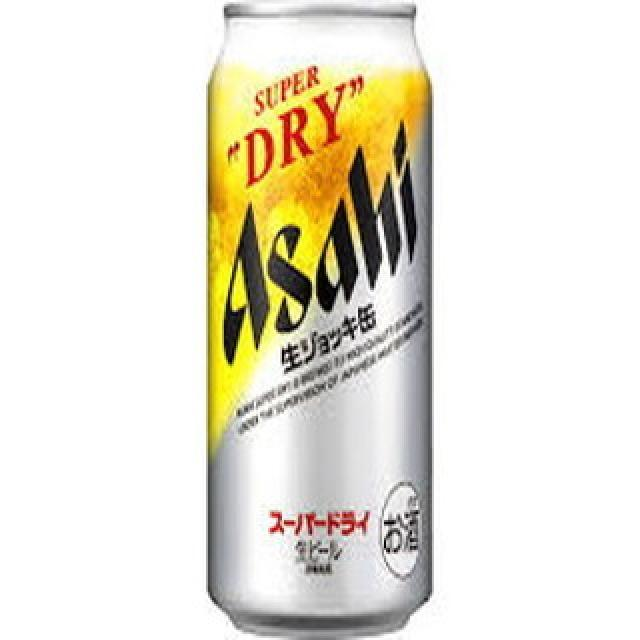can: (183, 2, 446, 633)
